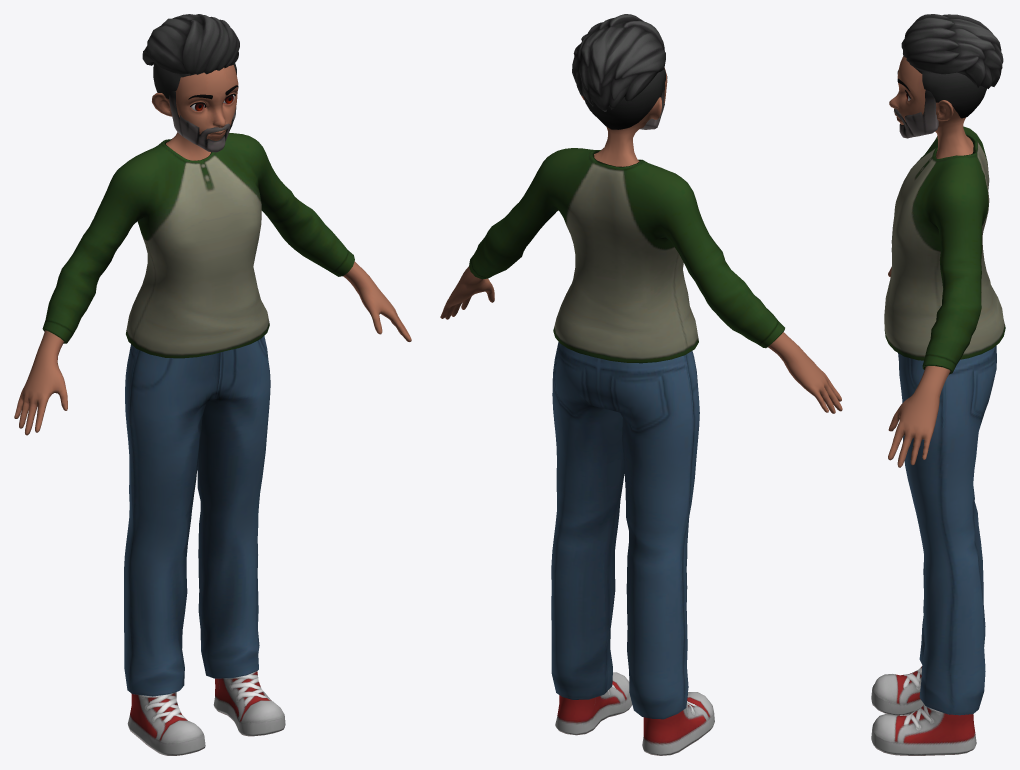
Rendered from John_Mesh.obj.
The picture shows the model from 3 angles, left to right: view 1: azimuth 30°, elevation 25°; view 2: azimuth 150°, elevation 25°; view 3: azimuth 270°, elevation 25°; orthographic projection.
Visible parts, largest first — view 1: John_Mesh_0; view 2: John_Mesh_0; view 3: John_Mesh_0.
Part boxes in pixels (x1=…): John_Mesh_0: x1=14, y1=14, x2=411, y2=755; John_Mesh_0: x1=440, y1=14, x2=842, y2=755; John_Mesh_0: x1=871, y1=14, x2=1005, y2=755.
Size of the model in its own units: 1.06 by 1.84 by 0.3157.
1 material, 1 textured.
